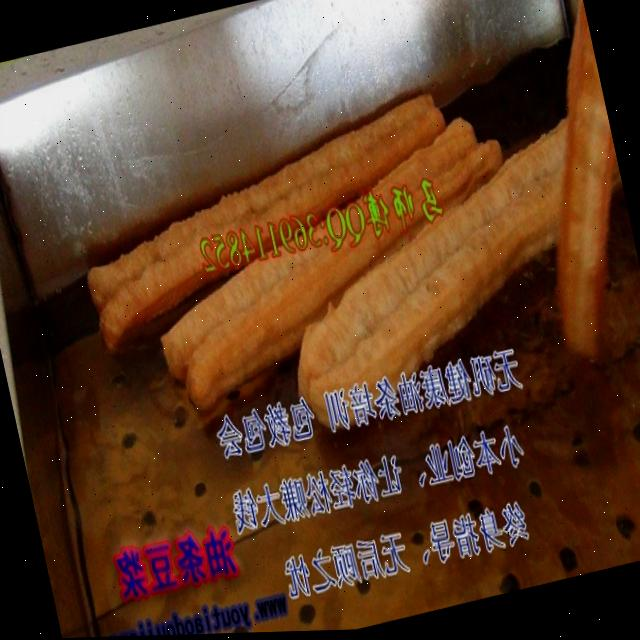炸货点心: (48, 0, 640, 564)
